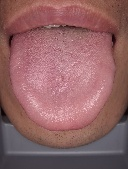tongue: (8, 34, 118, 133)
